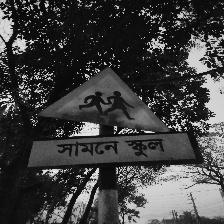School-in-front: (27, 66, 201, 170)
